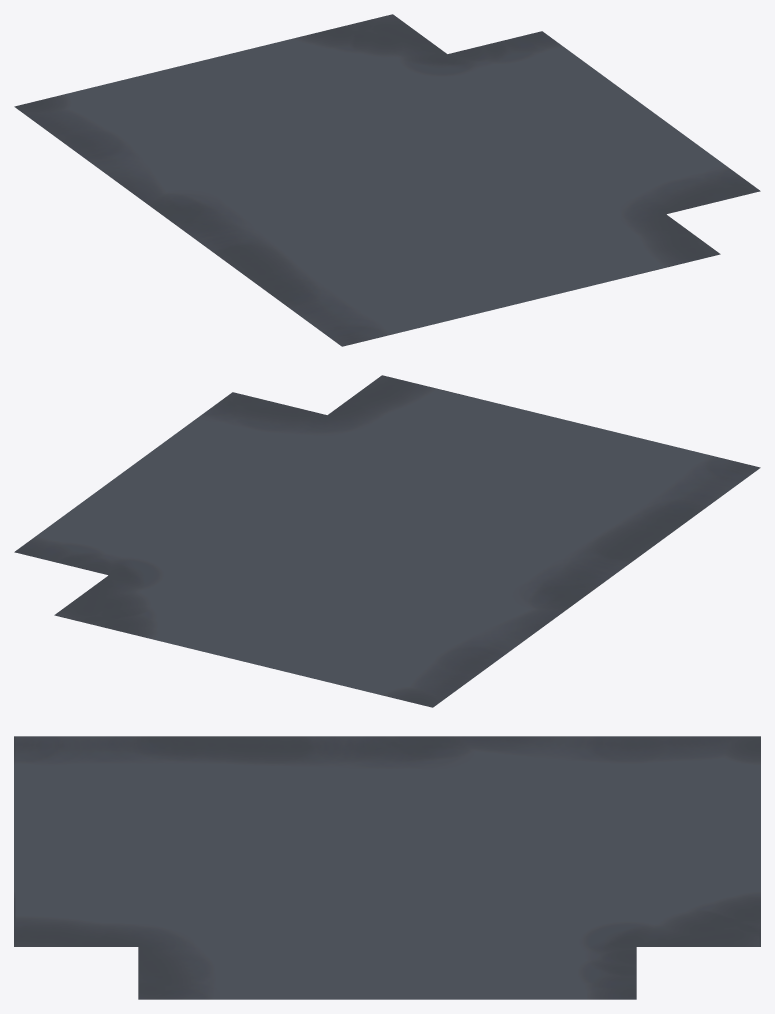
File: road-t-01.glb
3 views of the same model, one above another, from view 1: azimuth 30°, elevation 25°; view 2: azimuth 150°, elevation 25°; view 3: azimuth 270°, elevation 25° (orthographic). The views are drawn at different scales.
Visible parts, largest first — view 1: road-t-01; view 2: road-t-01; view 3: road-t-01.
Part boxes in pixels (box(x1,y1,x2,y2)): road-t-01: box(14, 14, 760, 346); road-t-01: box(14, 375, 760, 707); road-t-01: box(14, 736, 760, 999).
Size of the model in its own units: 20 by 0 by 24.
1 material, 1 textured.
